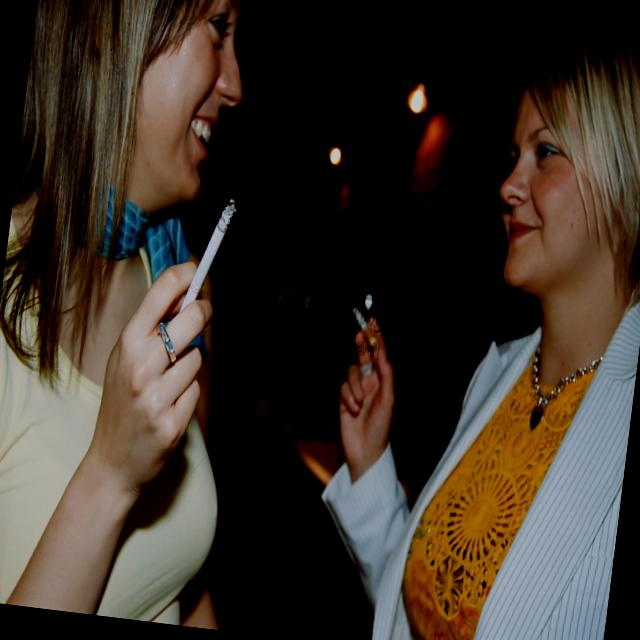smoke: (178, 194, 236, 316), (346, 304, 380, 346)
